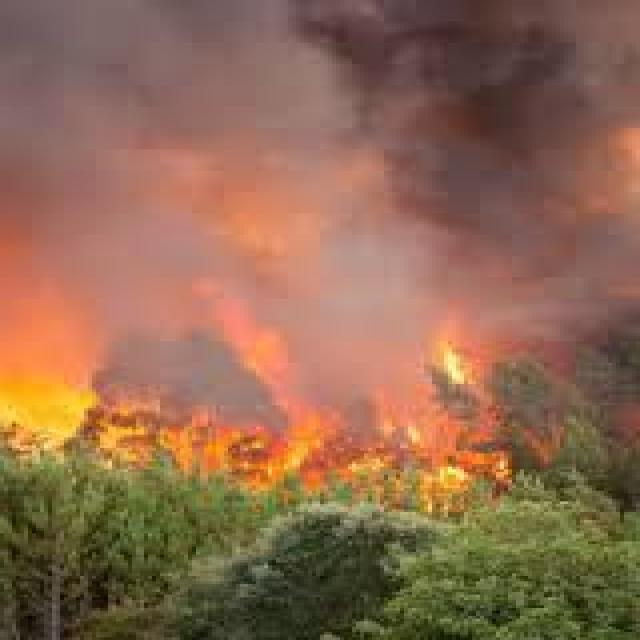Fire: (29, 348, 557, 530)
Smoke: (0, 0, 640, 340)
